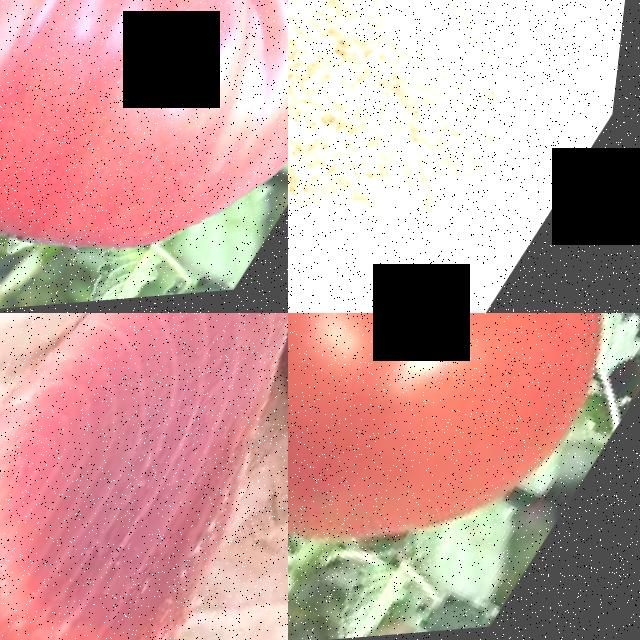tomato: (288, 313, 640, 640), (0, 0, 288, 313)
tuna: (0, 313, 288, 640), (183, 313, 288, 640)
white rice: (288, 0, 579, 291)
